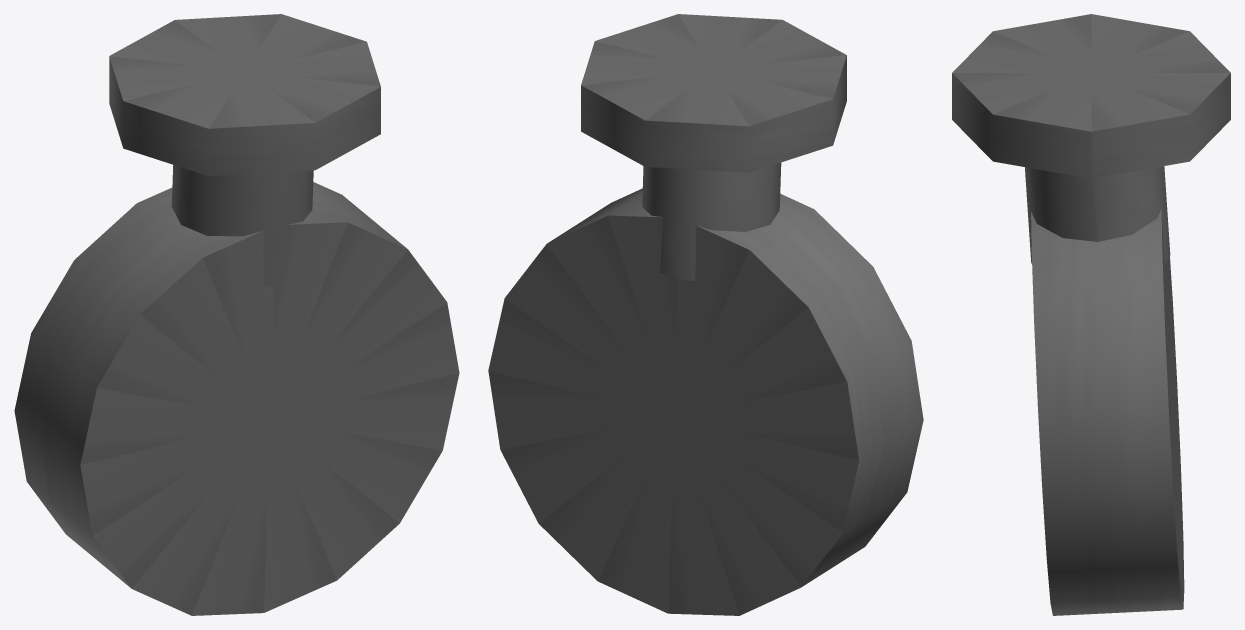
File: mastarmcurve_6x2_c7_up.obj
3 renders of one model, left to right at view 1: azimuth 30°, elevation 25°; view 2: azimuth 150°, elevation 25°; view 3: azimuth 270°, elevation 25°, orthographic. The views are drawn at different scales.
Parts seen in each view (by area): view 1: mastarm_6x2_c7_up; view 2: mastarm_6x2_c7_up; view 3: mastarm_6x2_c7_up.
Boxes of the visible parts, x1=… form: mastarm_6x2_c7_up: x1=14, y1=14, x2=459, y2=615; mastarm_6x2_c7_up: x1=488, y1=14, x2=923, y2=615; mastarm_6x2_c7_up: x1=952, y1=14, x2=1230, y2=615.
Bounding box in the file's own units: 0.6224 × 0.8278 × 0.4.
